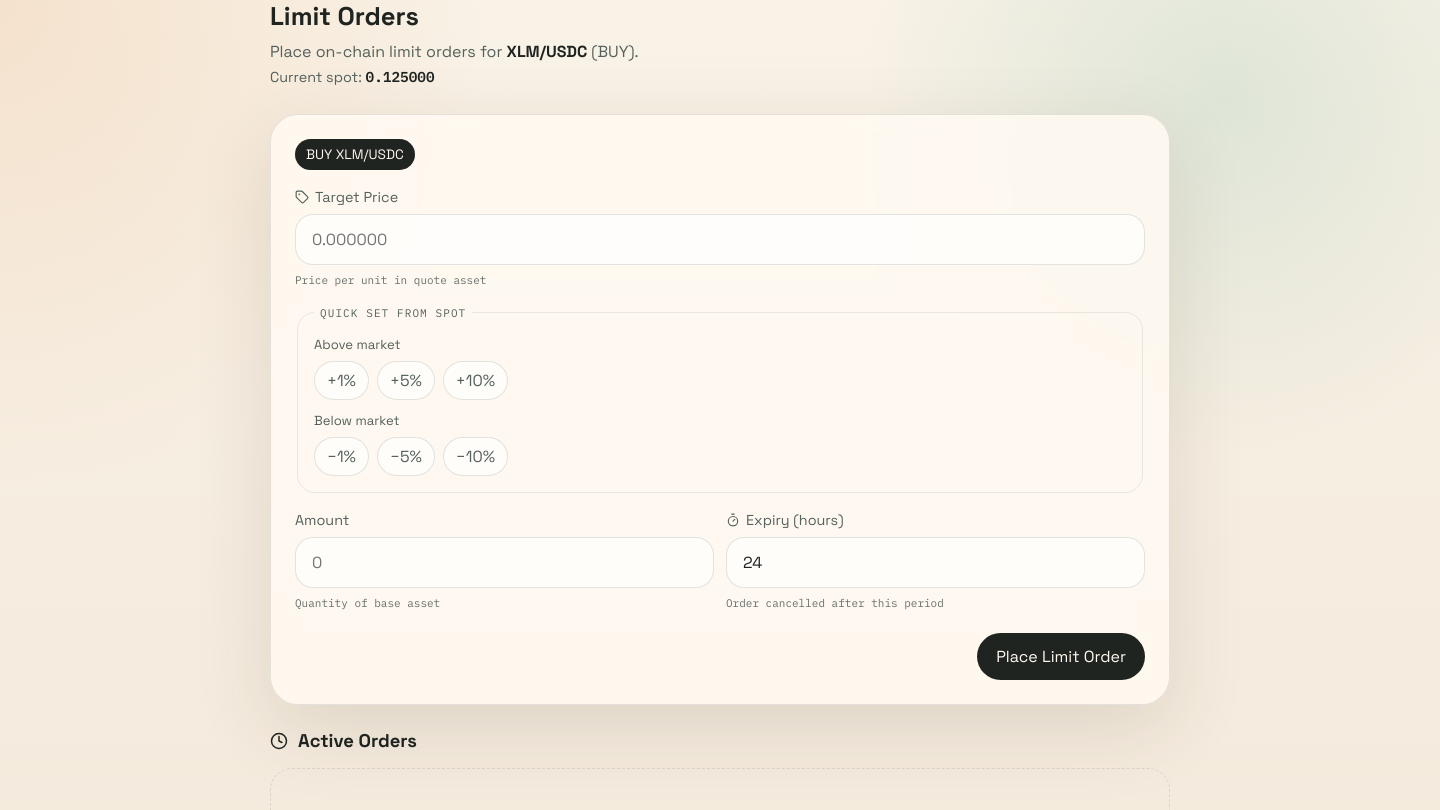
submit › shows error on rejection
Step 1. Type "0.15" into the field labelled "Target Price" → (720, 239), box [295,214,1145,265]
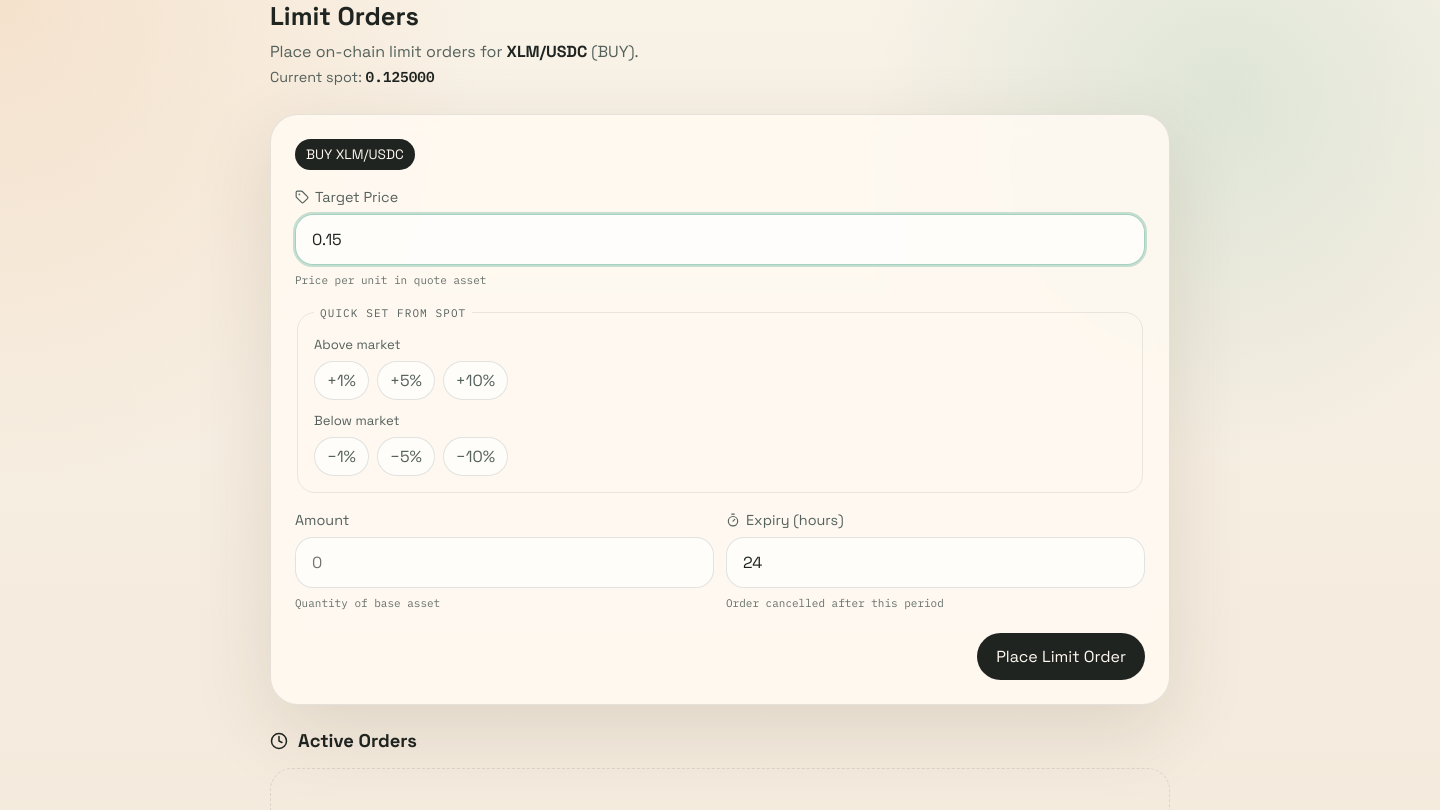
Step 2. Type "1000" into the field labelled "Amount" → (504, 562), box [295,537,714,588]
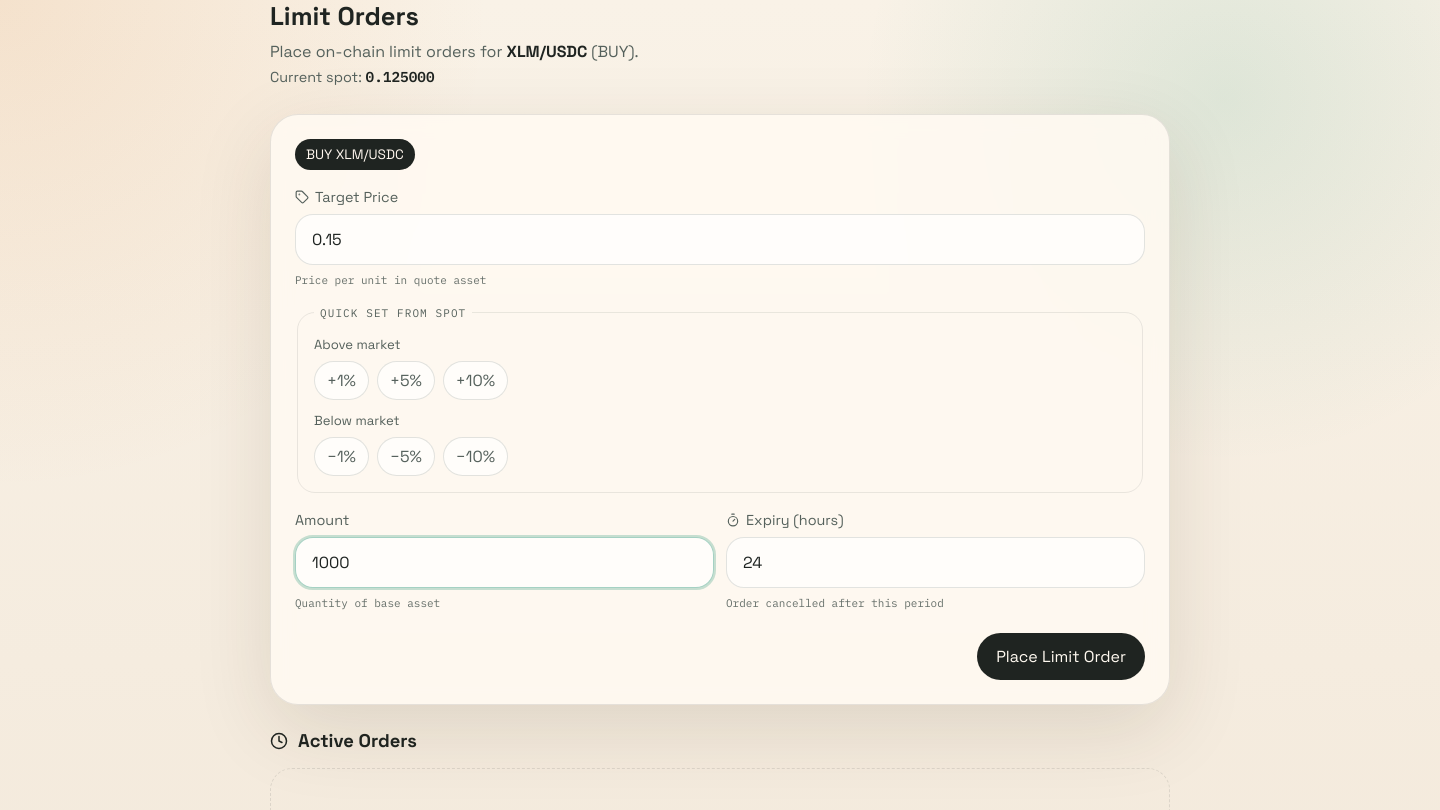
Step 3. Click the button "Place Limit Order" → (1061, 657), box [977,633,1145,680]
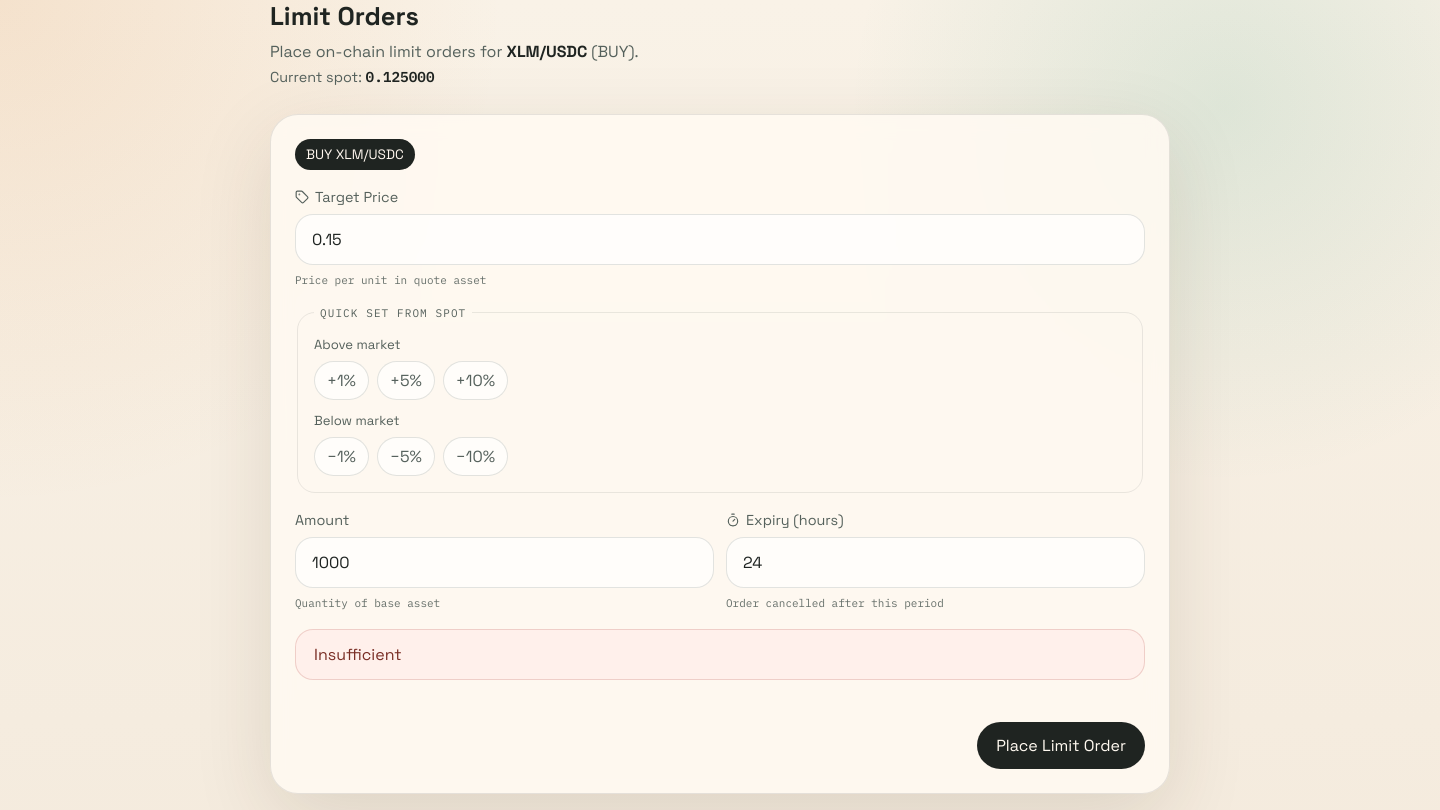
Expected: the text "Insufficient" is shown, [295,629,1145,680]
